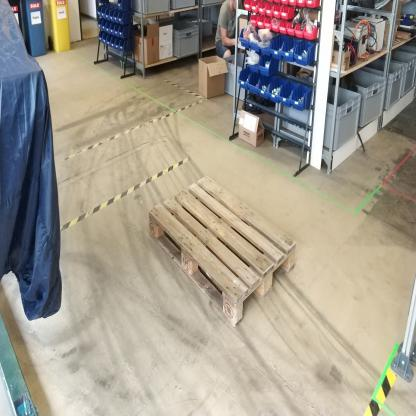BoxFace: (147, 170, 300, 338)
